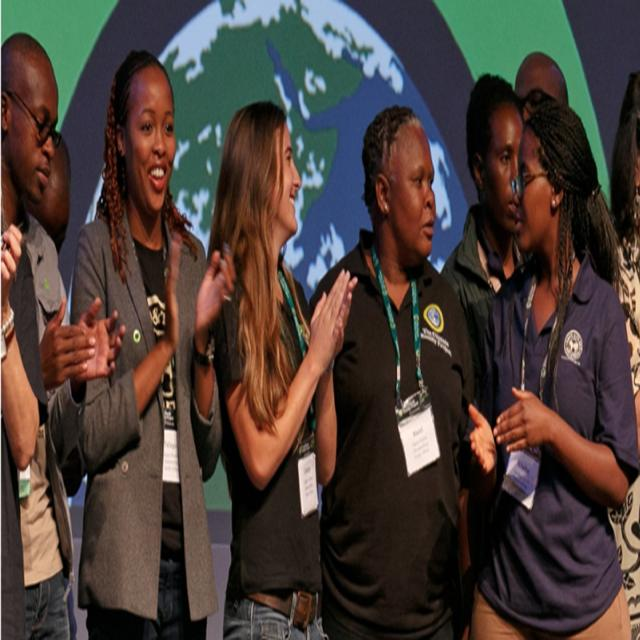body: (64, 42, 240, 639), (457, 90, 640, 639), (301, 94, 482, 639), (206, 101, 360, 640), (0, 23, 133, 639), (0, 125, 91, 639), (439, 64, 526, 417), (600, 60, 640, 639), (512, 43, 562, 143)
